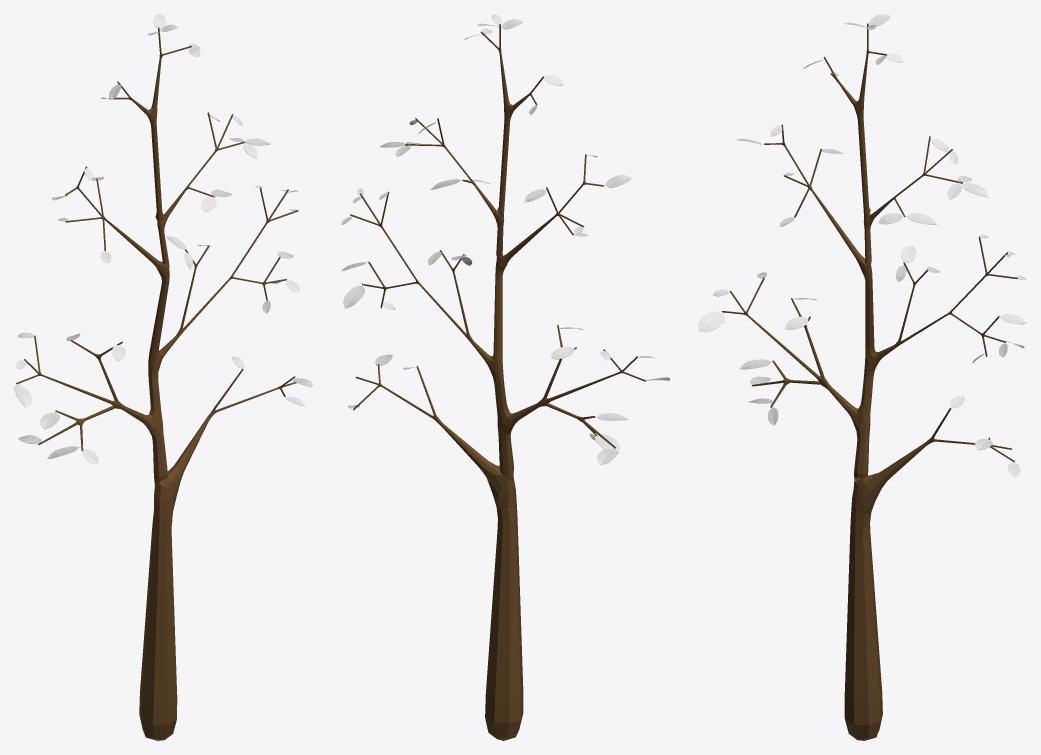
Rendered from stage3.fbx.
3 views of the same model, side by side, from view 1: azimuth 30°, elevation 25°; view 2: azimuth 150°, elevation 25°; view 3: azimuth 330°, elevation 25° (orthographic).
Parts seen in each view (by area): view 1: Stage3, Stage3.Leaves; view 2: Stage3, Stage3.Leaves; view 3: Stage3, Stage3.Leaves.
Part boxes in pixels (x1,y1,x2,y2): Stage3: (16, 27, 298, 740); Stage3.Leaves: (14, 14, 312, 464); Stage3: (350, 24, 645, 740); Stage3.Leaves: (341, 14, 669, 465); Stage3: (721, 23, 1017, 740); Stage3.Leaves: (698, 14, 1026, 476).
Size of the model in its own units: 97.06 by 220 by 22.95.
